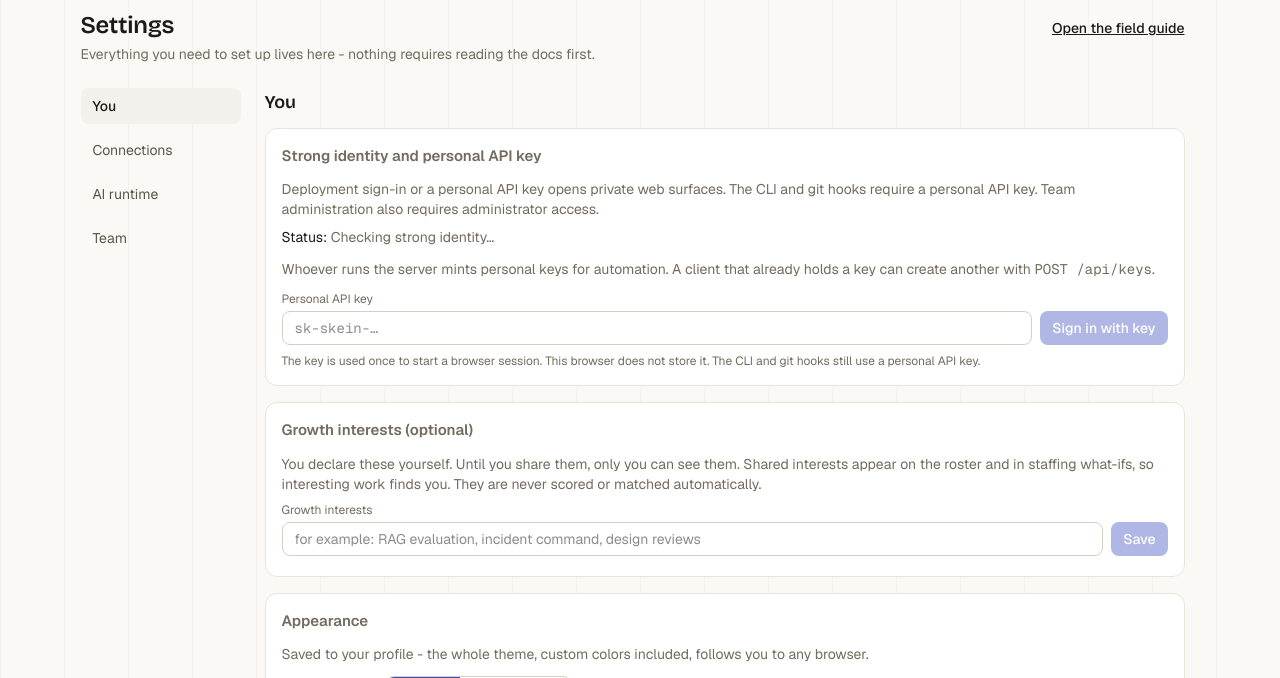
Test: Settings roster confirmations › shows a true empty roster only after a successful read
Click the link "Team" at x=110, y=238, box [92,229,127,247]
(page scrolled)
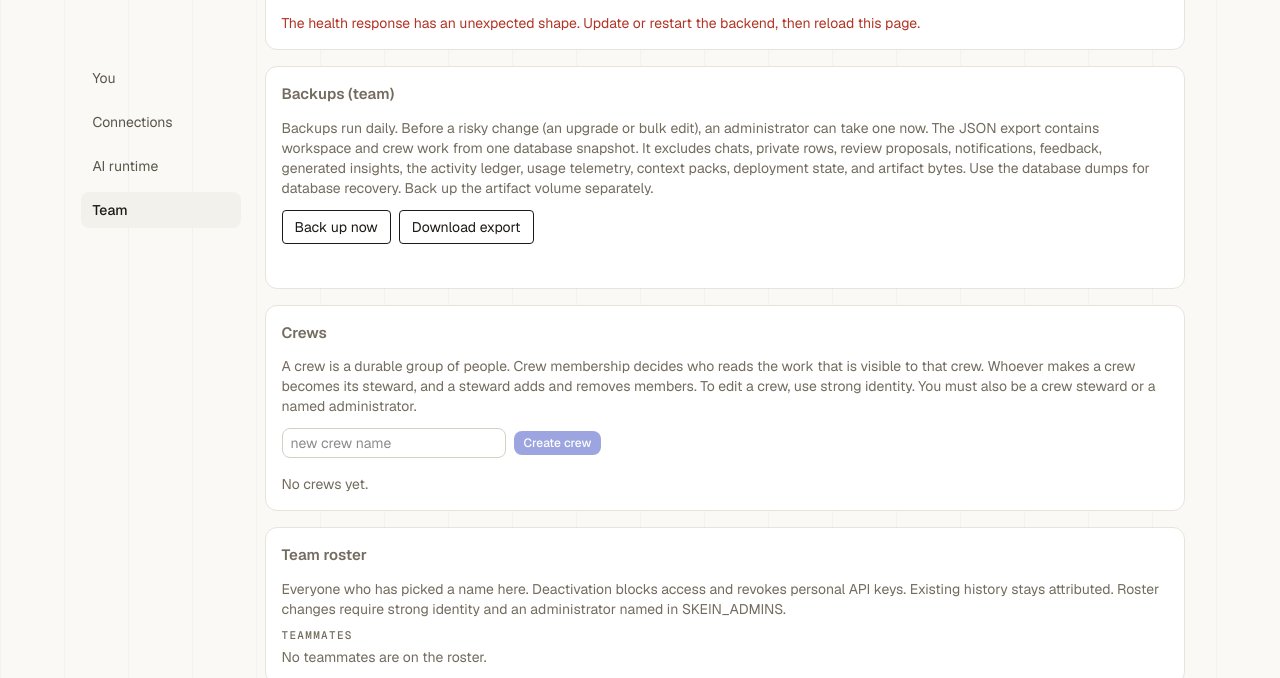
Expected: the text "No teammates are on the roster." is shown, [282,648,487,666]
